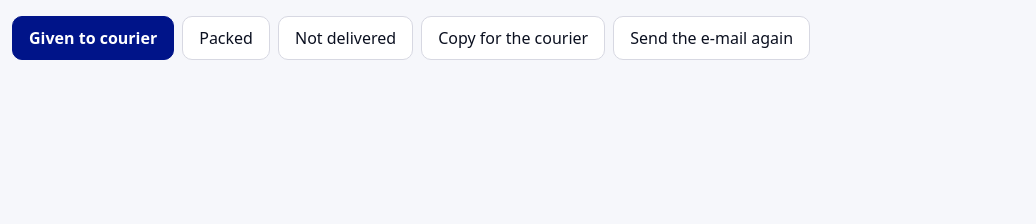
Scenario: the repeat e-mail button › offers the refund letter next to the confirmation for a refunded order, and sends the chosen one
What coordinates should you click on to do the following:
click the button with test id "shop-order-resend"
I would click on:
 (712, 38)
Its box is [613,16,810,60].
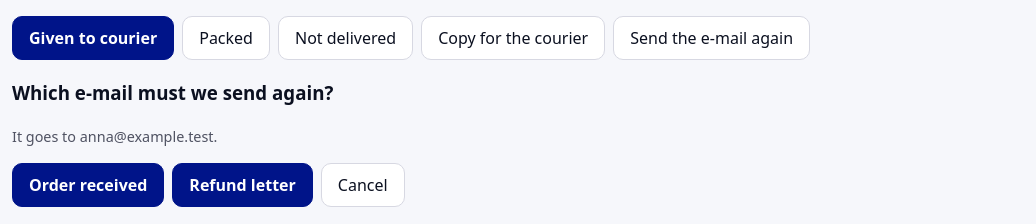
Expected: the button with test id "shop-resend-received" is shown, [12,163,164,207]
Expected: the button with test id "shop-resend-refunded" reads "Refund letter"
Expected: the button with test id "shop-resend-refunded" is shown
What coordinates should you click on to do the following:
click the button with test id "shop-resend-refunded"
I would click on:
 (243, 185)
Its box is [172,163,313,207].
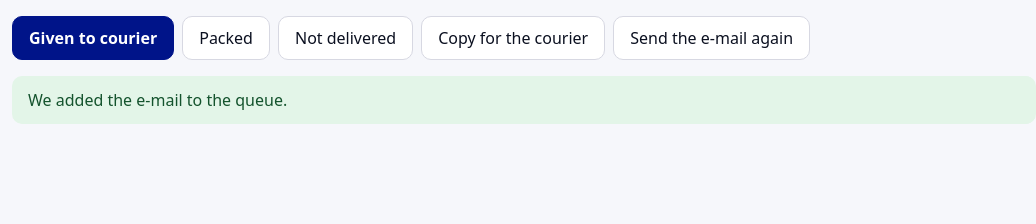
Expected: the message with test id "shop-order-note" reads "We added the e-mail to the queue.", [28,89,287,111]
